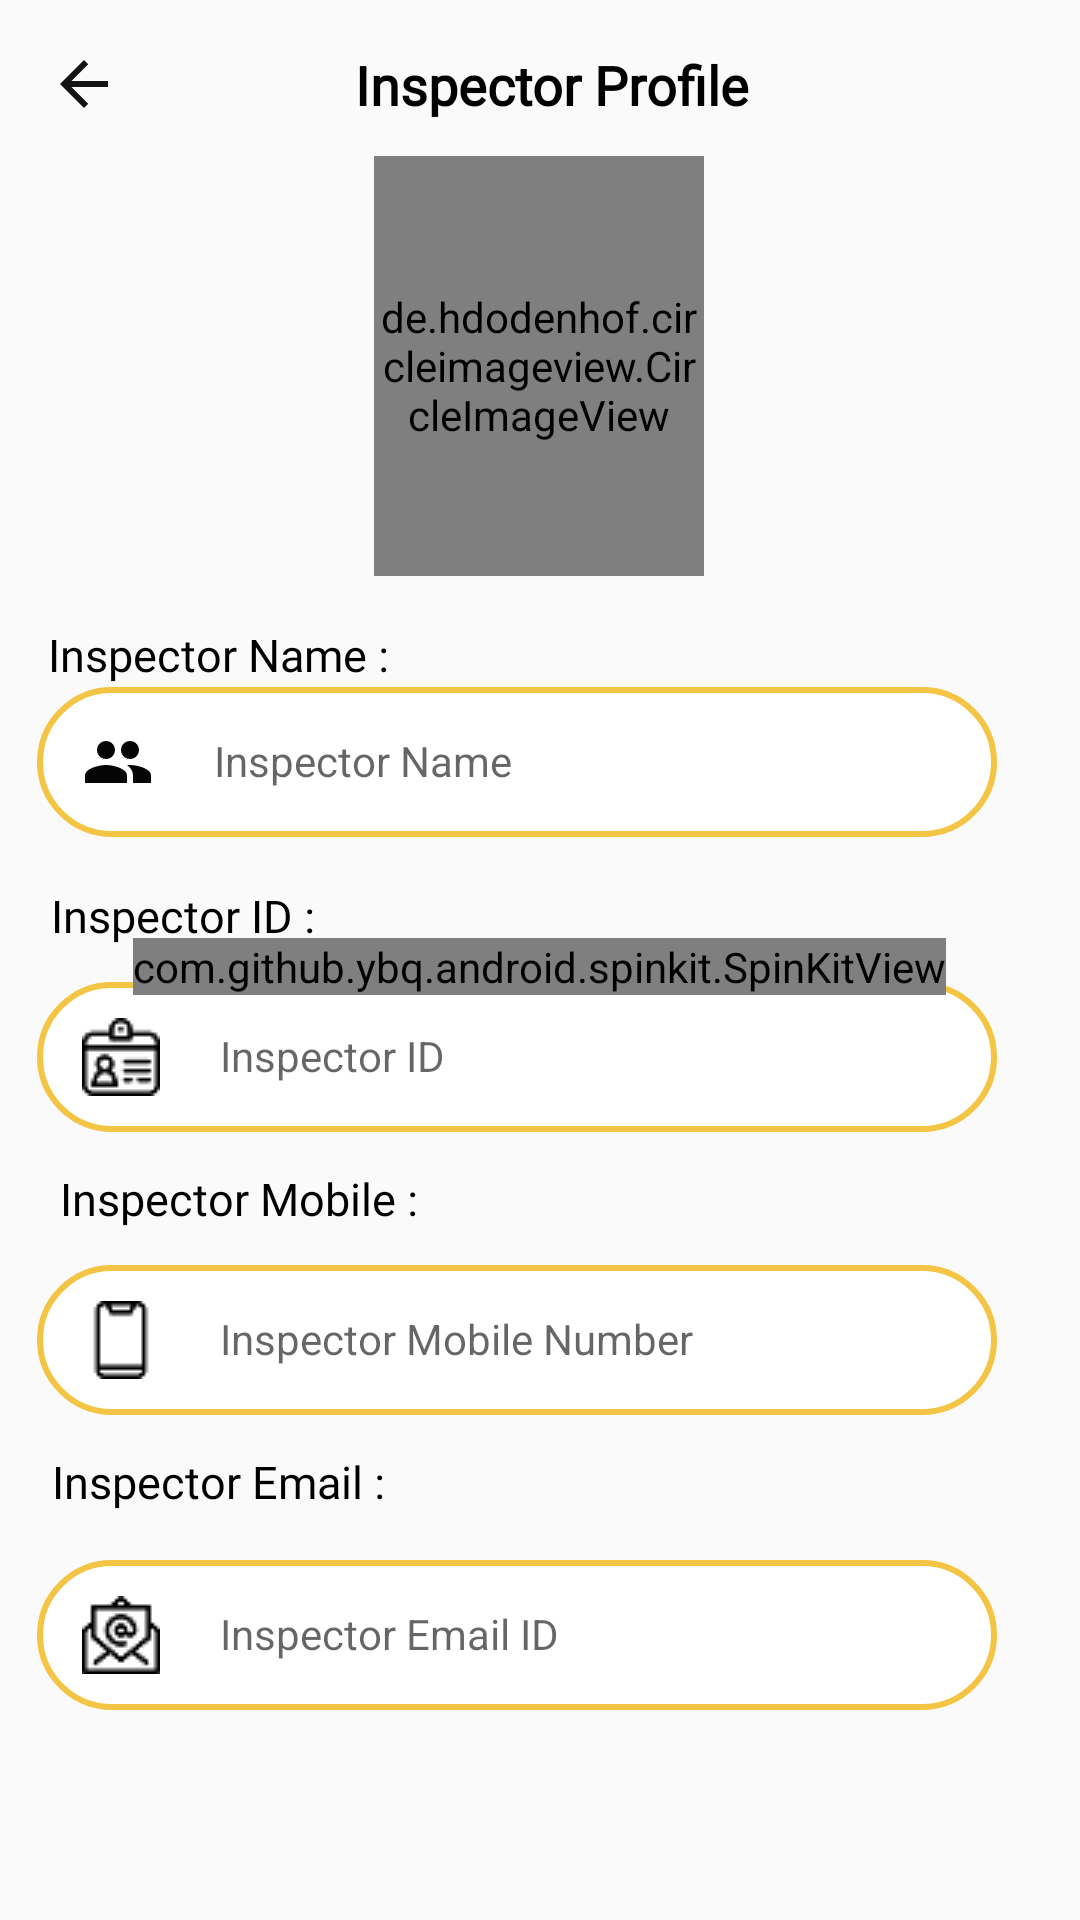

Icon bounding boxes for this 1080 × 1920 phone screenshot, format [left=x1, top=y1, right=x2, bottom=y2]:
back arrow: [left=60, top=60, right=108, bottom=108]
